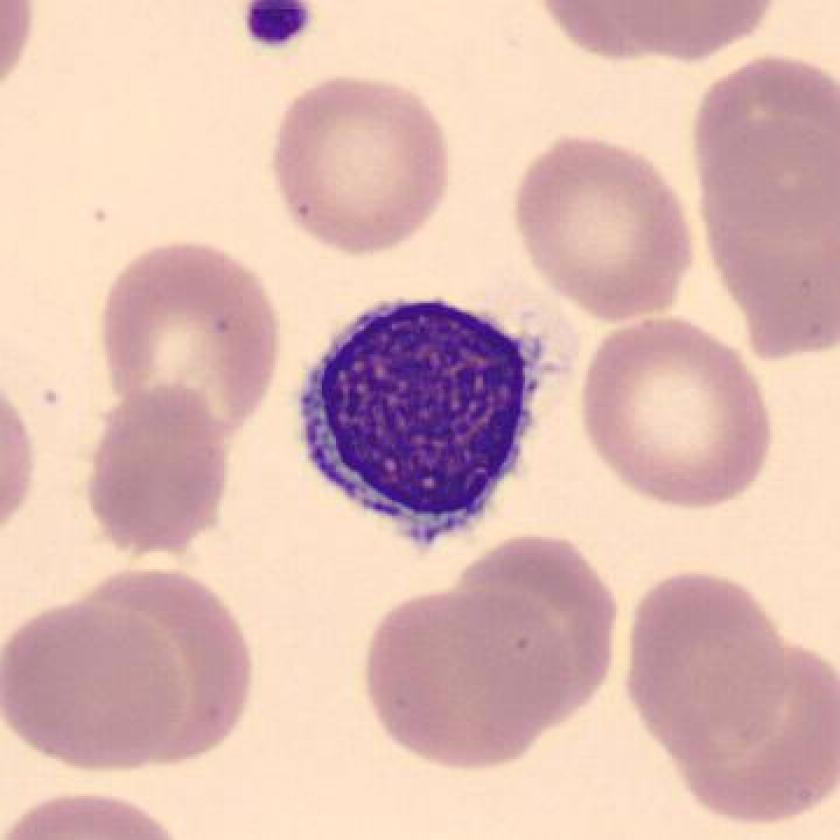lymphocyte: (286, 279, 561, 563)
